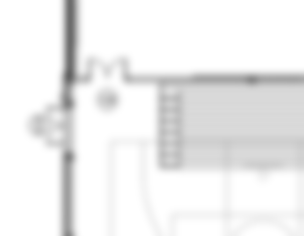double door: (86, 57, 128, 82), (46, 105, 68, 147)
